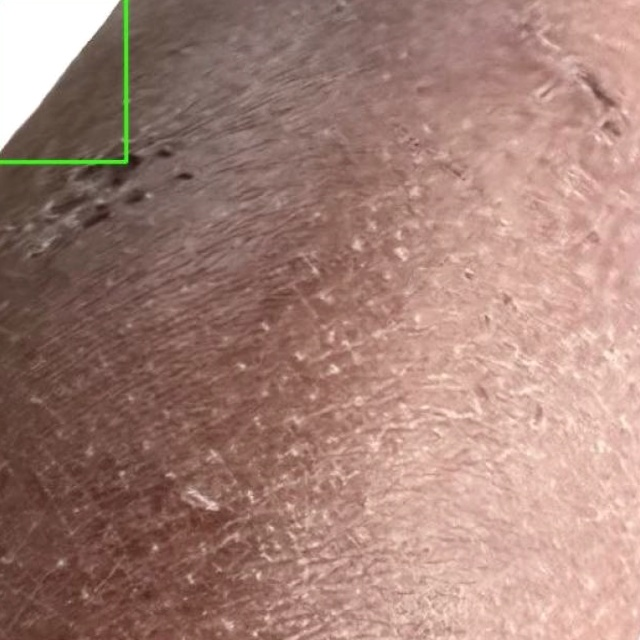Atopic Dermatitis: (0, 0, 126, 162)
